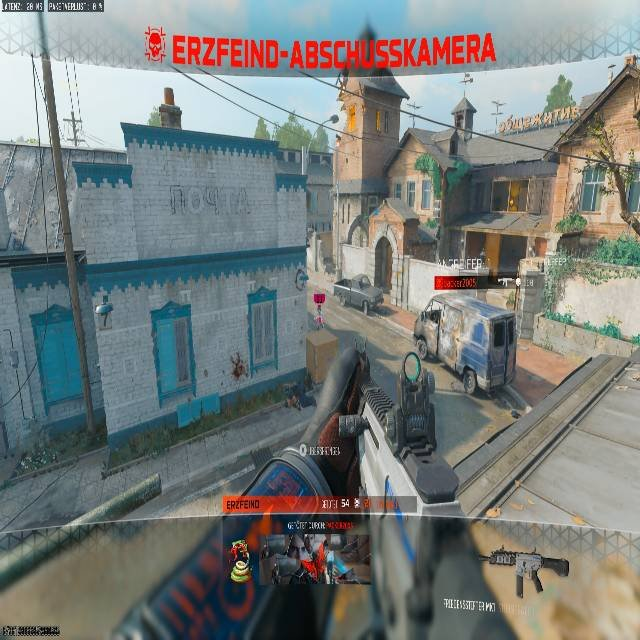player: (313, 306, 324, 329)
